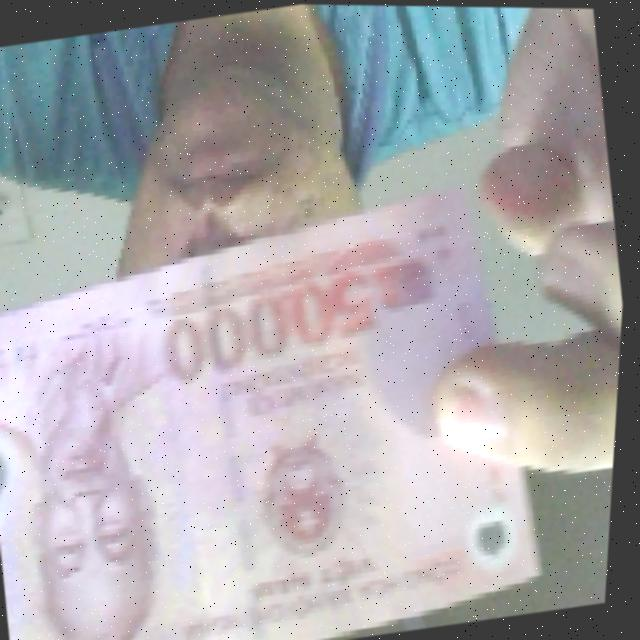50 000 VND: (0, 171, 576, 640)
